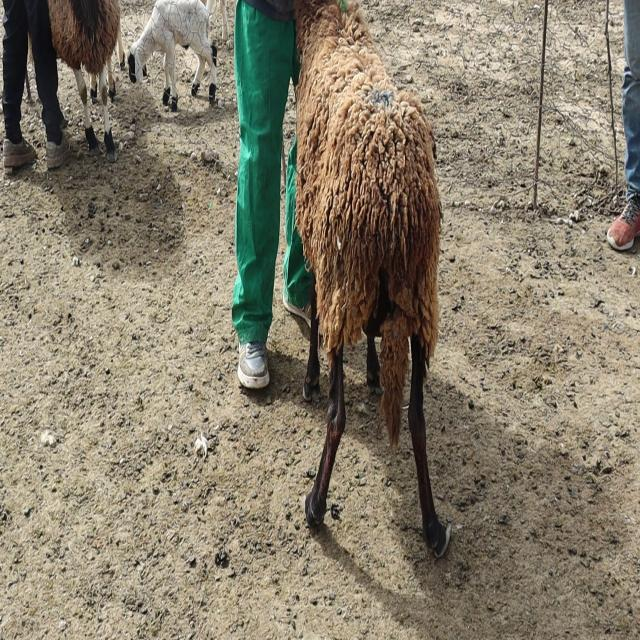Score_1: (295, 0, 450, 556)
